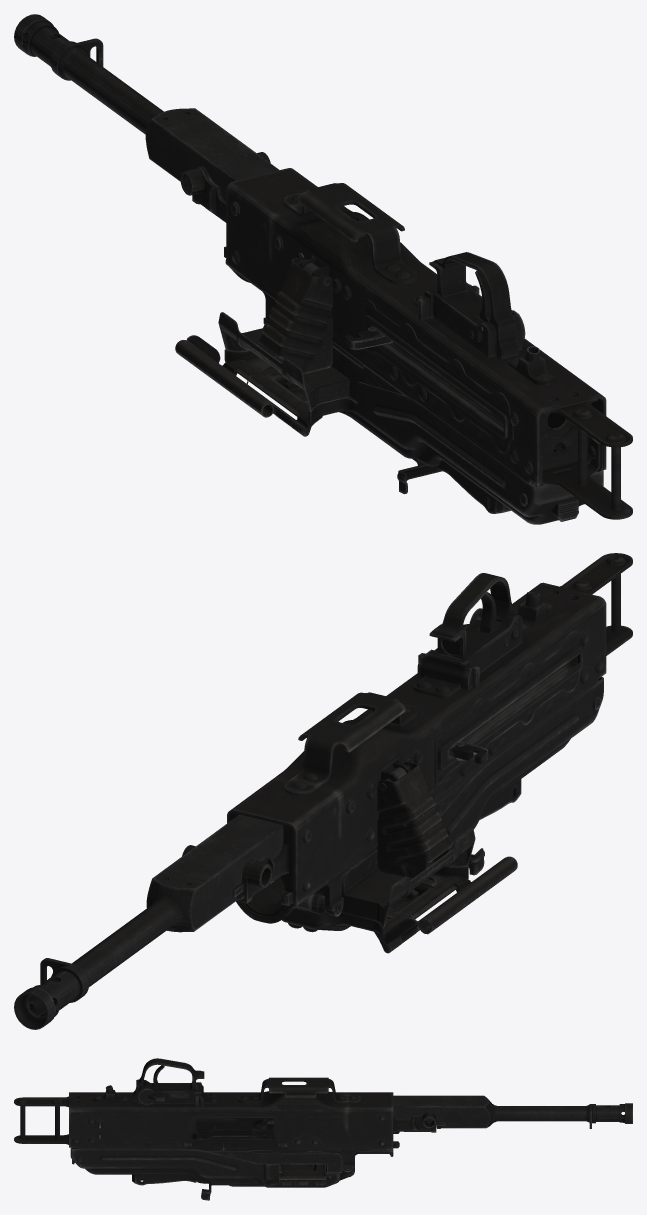
3 renders of one model, top to bottom at view 1: azimuth 30°, elevation 25°; view 2: azimuth 150°, elevation 25°; view 3: azimuth 270°, elevation 25°, orthographic. The views are drawn at different scales.
Visible parts, largest first — view 1: TW_64637076203536ad5600c990_PZ_Import; view 2: TW_64637076203536ad5600c990_PZ_Import; view 3: TW_64637076203536ad5600c990_PZ_Import.
Boxes of the visible parts, <box> form: TW_64637076203536ad5600c990_PZ_Import: <box>14,14,632,524</box>; TW_64637076203536ad5600c990_PZ_Import: <box>14,553,632,1029</box>; TW_64637076203536ad5600c990_PZ_Import: <box>14,1058,632,1200</box>.
Bounding box in the file's own units: 0.0754 × 0.3816 × 0.0897.
Materials: 1 (1 with a texture image).
